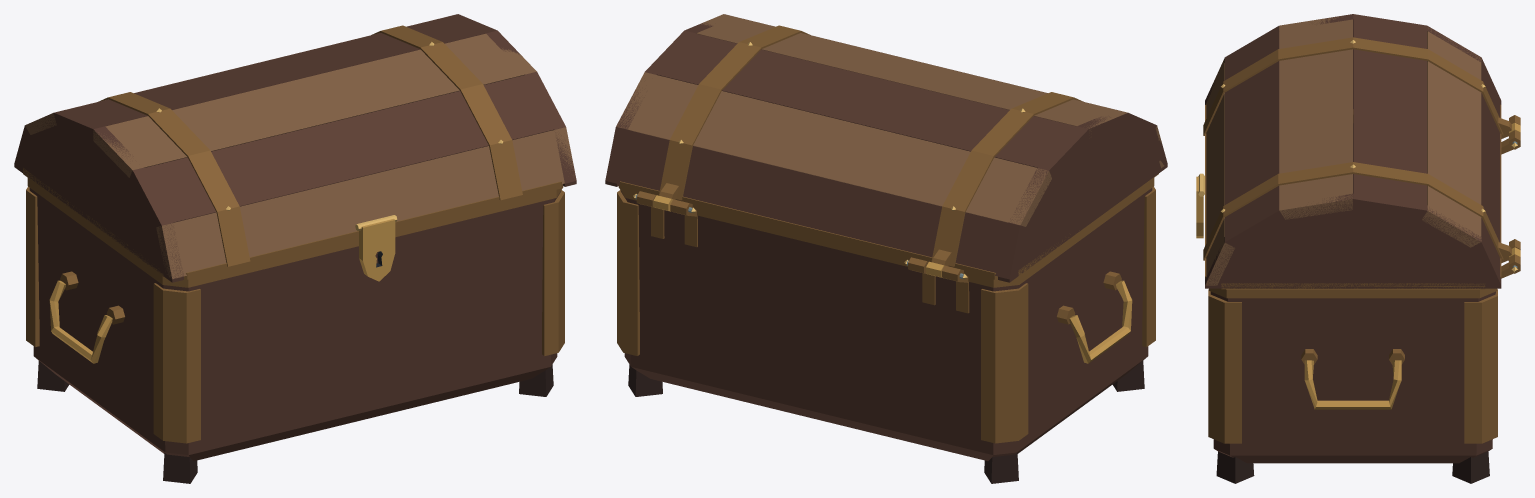
The model's file is treasure_chest.glb.
3 renders of one model, left to right at view 1: azimuth 30°, elevation 25°; view 2: azimuth 150°, elevation 25°; view 3: azimuth 270°, elevation 25°, orthographic. The views are drawn at different scales.
Visible parts, largest first — view 1: SM_Magic_Chest_Body, SM_Magic_Chest_Lid; view 2: SM_Magic_Chest_Body, SM_Magic_Chest_Lid; view 3: SM_Magic_Chest_Lid, SM_Magic_Chest_Body.
Part boxes in pixels (x1,y1,x2,y2): SM_Magic_Chest_Body: [26, 178, 564, 483]; SM_Magic_Chest_Lid: [14, 14, 576, 282]; SM_Magic_Chest_Body: [617, 178, 1155, 483]; SM_Magic_Chest_Lid: [605, 14, 1167, 282]; SM_Magic_Chest_Lid: [1196, 14, 1520, 289]; SM_Magic_Chest_Body: [1208, 109, 1520, 483].
Bounding box in the file's own units: 0.722 × 0.4795 × 0.4817.
Materials: 2 (2 with a texture image).
